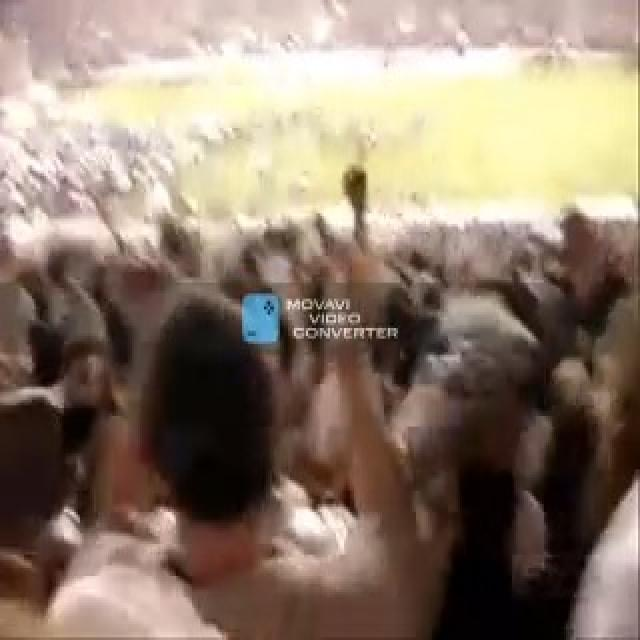non-voilence: (0, 171, 638, 637), (284, 293, 400, 344), (340, 160, 372, 251), (238, 288, 282, 349)
